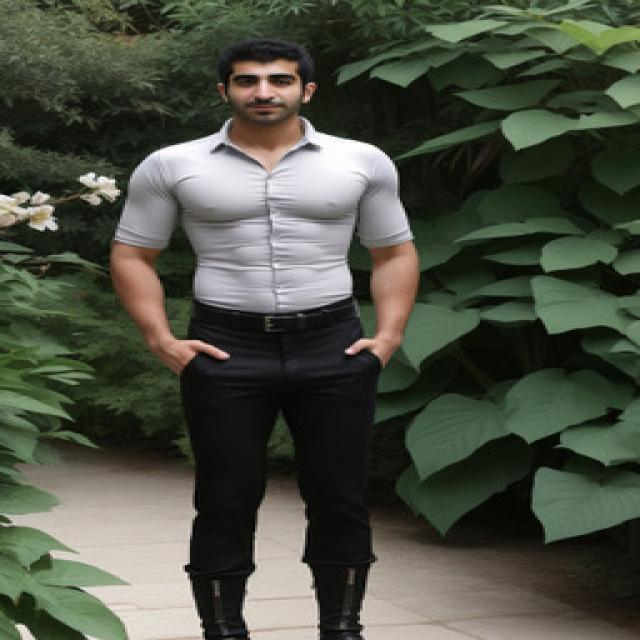Ai human 2: (95, 35, 495, 640)
